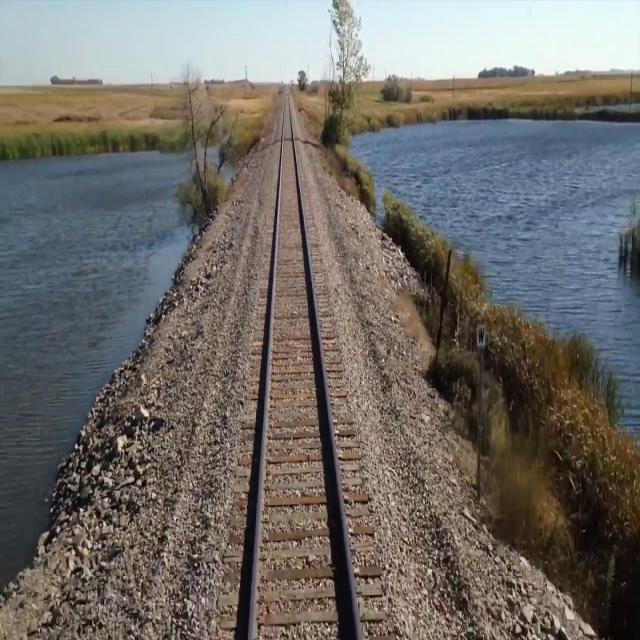rail-track: (252, 90, 356, 639)
